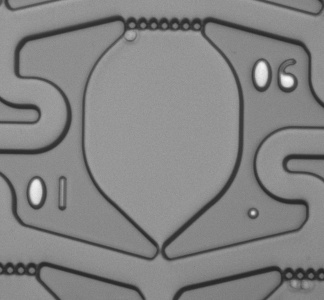AptNum: (246, 54, 302, 100)
Marker: (244, 206, 262, 224)
StNum: (24, 172, 77, 218)
